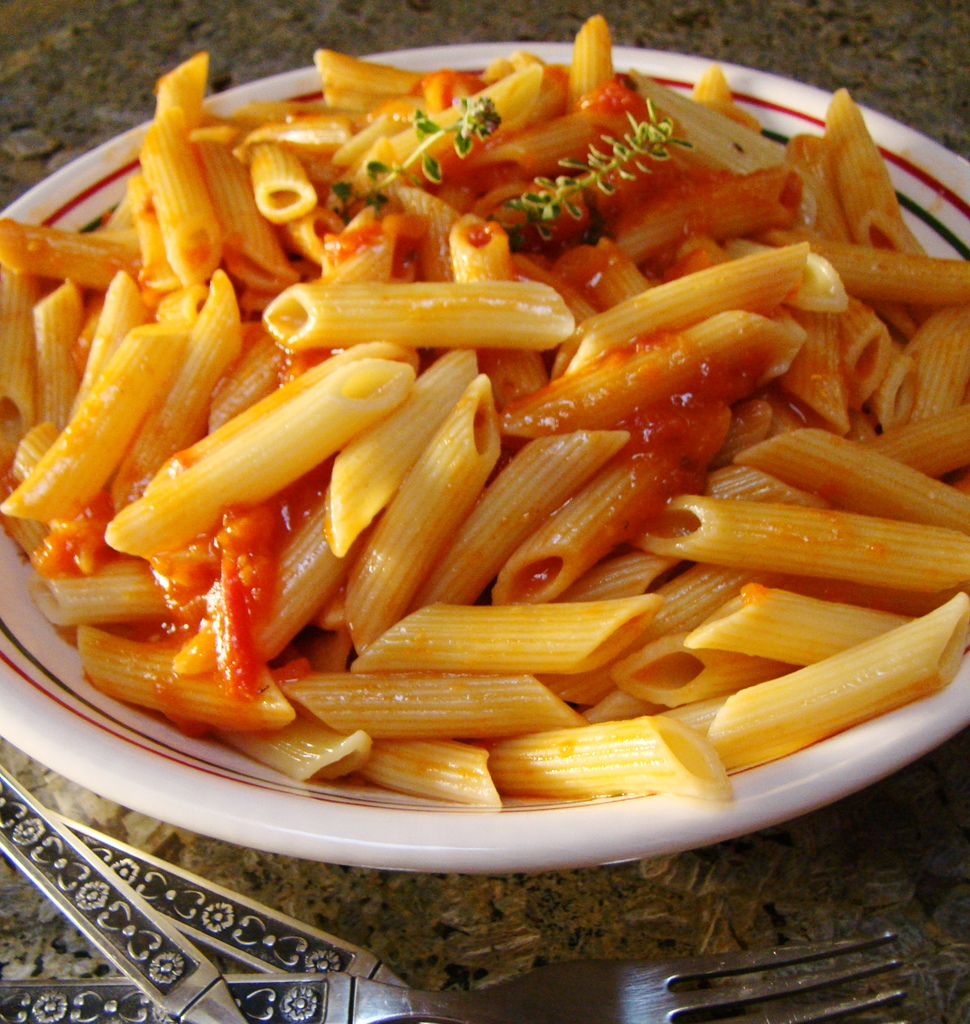pasta: (0, 0, 967, 860)
